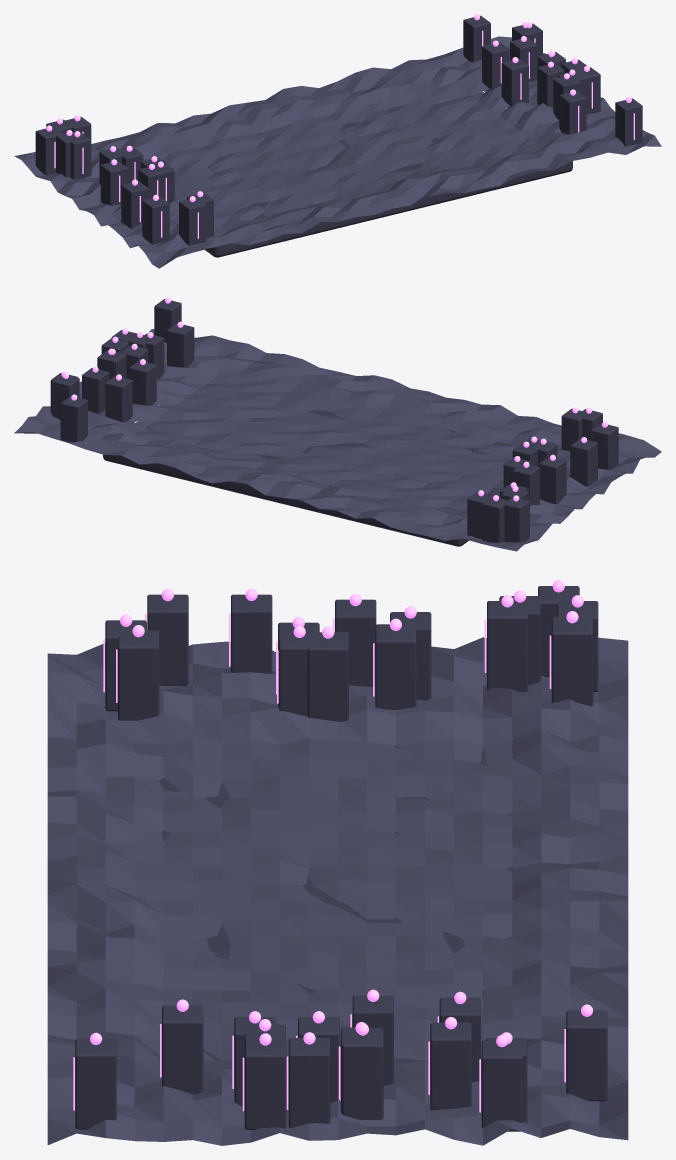
File: terrain_void.glb
3 renders of one model, top to bottom at view 1: azimuth 30°, elevation 25°; view 2: azimuth 150°, elevation 25°; view 3: azimuth 270°, elevation 25°, orthographic. The views are drawn at different scales.
Visible parts, largest first — view 1: terrain_void_Mesh; view 2: terrain_void_Mesh; view 3: terrain_void_Mesh.
Part boxes in pixels (<box>): terrain_void_Mesh: <box>14,14,661,268</box>; terrain_void_Mesh: <box>14,297,661,551</box>; terrain_void_Mesh: <box>47,580,628,1145</box>.
Bounding box in the file's own units: 28 × 3.48 × 14.
